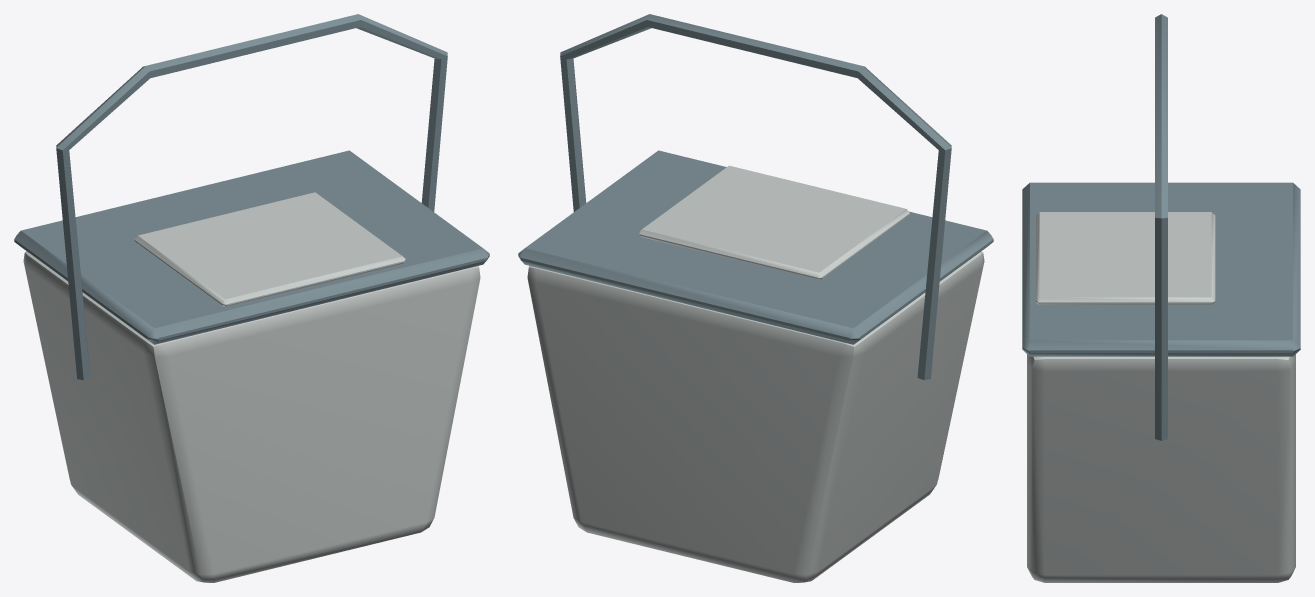
File: takeout-box.glb
3 views of the same model, side by side, from view 1: azimuth 30°, elevation 25°; view 2: azimuth 150°, elevation 25°; view 3: azimuth 270°, elevation 25° (orthographic).
Visible parts, largest first — view 1: folded_carton, folded_lid, lid_flap, wire_bail; view 2: folded_carton, folded_lid, lid_flap, wire_bail; view 3: folded_carton, folded_lid, lid_flap, wire_bail.
Boxes of the visible parts, bbox=[...] form: folded_carton: bbox=[23, 251, 480, 582]; folded_lid: bbox=[14, 150, 489, 344]; lid_flap: bbox=[134, 192, 405, 306]; wire_bail: bbox=[56, 14, 447, 380]; folded_carton: bbox=[527, 251, 984, 582]; folded_lid: bbox=[518, 150, 993, 344]; lid_flap: bbox=[638, 165, 909, 280]; wire_bail: bbox=[560, 14, 951, 380]; folded_carton: bbox=[1027, 354, 1295, 582]; folded_lid: bbox=[1022, 182, 1300, 356]; lid_flap: bbox=[1036, 212, 1215, 304]; wire_bail: bbox=[1155, 14, 1167, 440].
Size of the model in its own units: 0.1489 by 0.1725 by 0.093.
